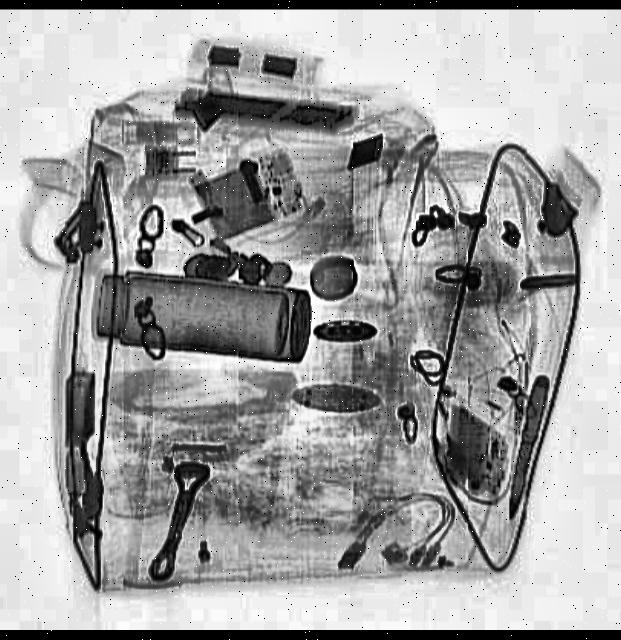Knife: (502, 368, 554, 522)
